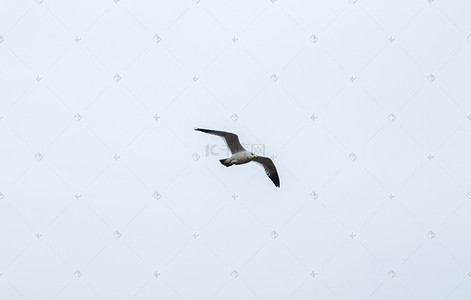bird: (188, 122, 282, 189)
